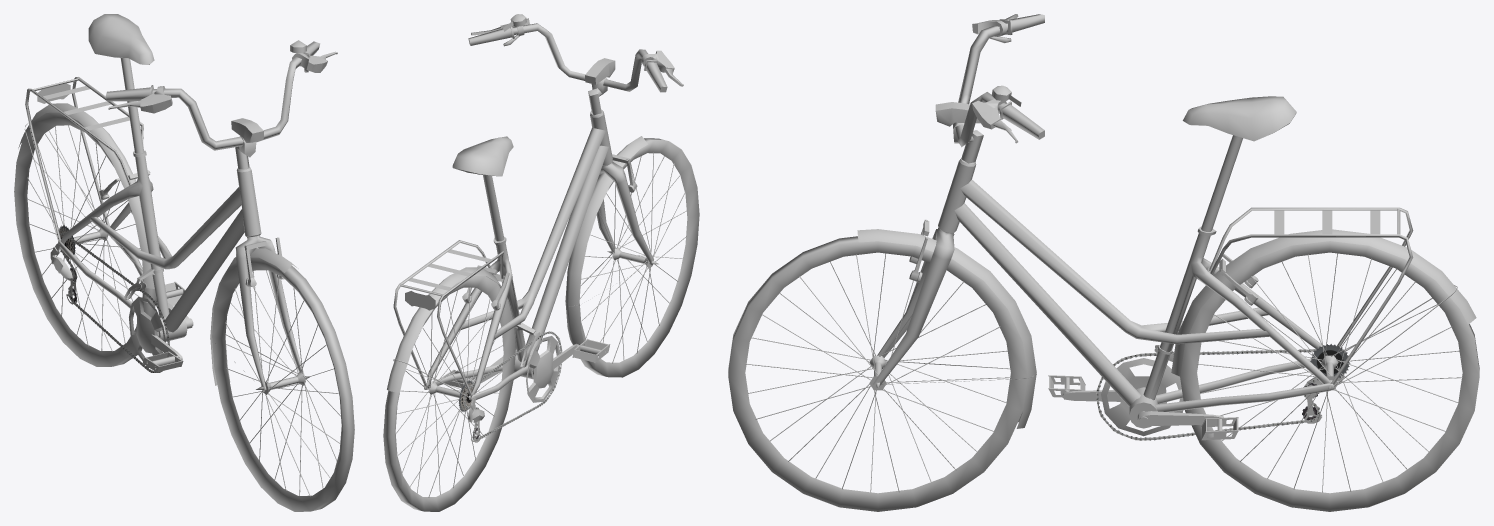
Rendered from LOD_02_city_bike.FBX.
3 views of the same model, side by side, from view 1: azimuth 30°, elevation 25°; view 2: azimuth 150°, elevation 25°; view 3: azimuth 270°, elevation 25° (orthographic). The views are drawn at different scales.
Visible parts, largest first — view 1: LOD_02_Cbike_body, LOD_02_Cbike_wheel_front, LOD_02_Cbike_handlebar, LOD_02_Cbike_wheel_rear, LOD_02_Cbike_seat, LOD_02_Cbike_chain_set, LOD_02_Cbike_pedal_R; view 2: LOD_02_Cbike_body, LOD_02_Cbike_handlebar, LOD_02_Cbike_wheel_rear, LOD_02_Cbike_wheel_front, LOD_02_Cbike_seat, LOD_02_Cbike_chain_set, LOD_02_Cbike_pedal_R; view 3: LOD_02_Cbike_body, LOD_02_Cbike_wheel_front, LOD_02_Cbike_wheel_rear, LOD_02_Cbike_handlebar, LOD_02_Cbike_seat, LOD_02_Cbike_chain_set.
Boxes of the visible parts, <box> form: LOD_02_Cbike_body: <box>18,77,261,372</box>; LOD_02_Cbike_wheel_front: <box>212,257,354,511</box>; LOD_02_Cbike_handlebar: <box>105,40,337,391</box>; LOD_02_Cbike_wheel_rear: <box>14,112,155,366</box>; LOD_02_Cbike_seat: <box>88,14,154,153</box>; LOD_02_Cbike_chain_set: <box>129,296,192,368</box>; LOD_02_Cbike_pedal_R: <box>142,351,183,372</box>; LOD_02_Cbike_body: <box>387,109,612,442</box>; LOD_02_Cbike_handlebar: <box>468,14,683,344</box>; LOD_02_Cbike_wheel_rear: <box>383,276,515,511</box>; LOD_02_Cbike_wheel_front: <box>579,138,699,377</box>; LOD_02_Cbike_seat: <box>452,136,513,241</box>; LOD_02_Cbike_chain_set: <box>472,336,578,402</box>; LOD_02_Cbike_pedal_R: <box>572,338,610,362</box>; LOD_02_Cbike_body: <box>938,158,1476,440</box>; LOD_02_Cbike_wheel_front: <box>728,236,1027,511</box>; LOD_02_Cbike_wheel_rear: <box>1180,241,1479,511</box>; LOD_02_Cbike_handlebar: <box>857,14,1044,428</box>; LOD_02_Cbike_seat: <box>1182,96,1296,231</box>; LOD_02_Cbike_chain_set: <box>1062,358,1223,436</box>.
Size of the model in its own units: 0.6633 by 1.12 by 1.65.
